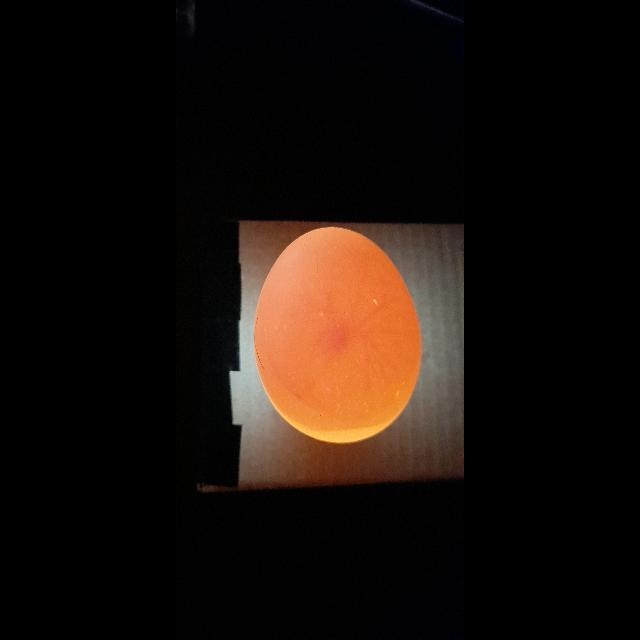Fertile: (260, 226, 422, 444)
